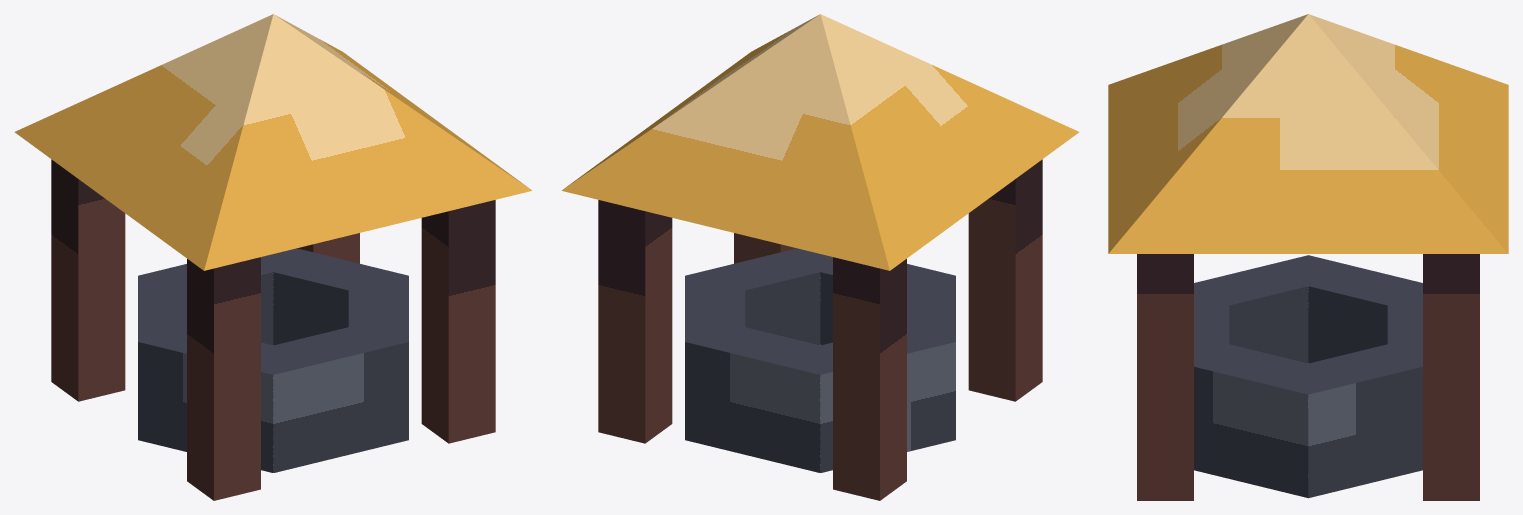
Rendered from well2.gltf.
3 views of the same model, side by side, from view 1: azimuth 30°, elevation 25°; view 2: azimuth 150°, elevation 25°; view 3: azimuth 270°, elevation 25° (orthographic). The views are drawn at different scales.
Visible parts, largest first — view 1: pyramid, cube (×4), Base; view 2: pyramid, cube (×4), Base; view 3: pyramid, Base, cube (×2).
Boxes of the visible parts, x1,y1,x2,y2 form: pyramid: (14,14,532,270); cube (×4): (51,159,495,500); Base: (138,248,408,472); pyramid: (561,14,1079,270); cube (×4): (598,159,1042,500); Base: (685,248,955,472); pyramid: (1108,14,1508,253); Base: (1194,255,1422,498); cube (×2): (1137,254,1479,500).
Size of the model in its own units: 0.4375 by 0.5 by 0.4375.
Materials: 1 (1 with a texture image).
